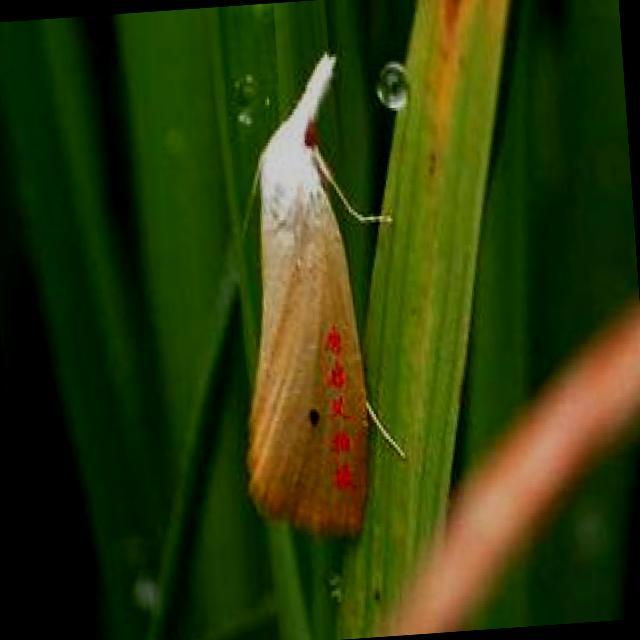stem borer: (249, 57, 367, 534)
